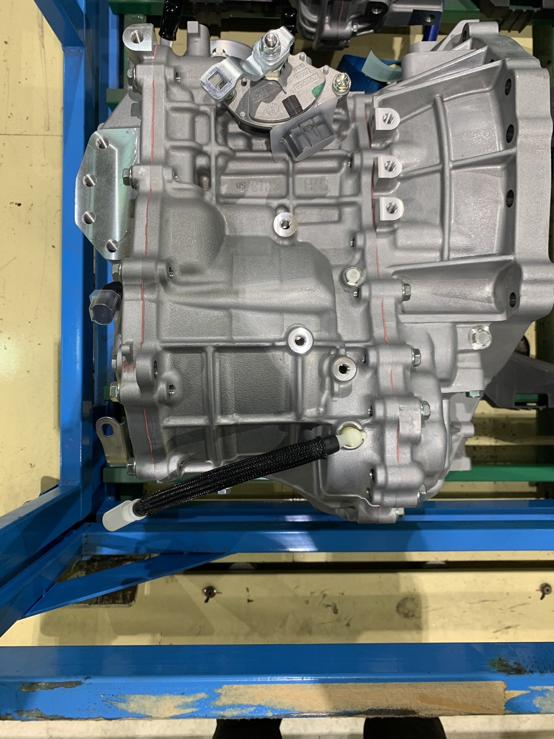gearbox_type1: (98, 19, 552, 527)
gearbox_type1_FP1: (372, 108, 401, 138)
gearbox_type1_FP2: (372, 152, 404, 187)
gearbox_type1_FP3: (123, 24, 156, 54)
